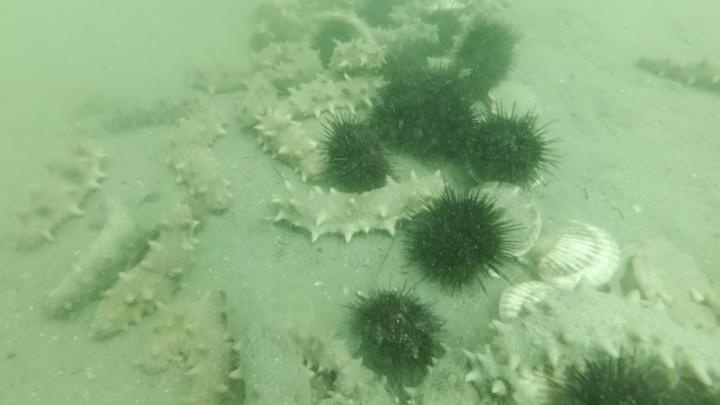echinus: (399, 185, 521, 297), (367, 65, 483, 167), (340, 281, 448, 386), (460, 102, 562, 191), (540, 343, 681, 404), (315, 112, 396, 196), (448, 16, 524, 96), (307, 14, 370, 71), (247, 34, 319, 69), (353, 1, 405, 33)
holothurian: (460, 278, 719, 378), (88, 204, 204, 344), (42, 199, 157, 323), (266, 169, 448, 247), (215, 284, 323, 405), (10, 141, 111, 254), (173, 288, 254, 405), (284, 323, 397, 403), (162, 107, 236, 216), (133, 291, 218, 377), (462, 343, 574, 405), (249, 106, 333, 185), (272, 69, 390, 125), (402, 340, 480, 403), (183, 45, 270, 99), (311, 26, 398, 80), (101, 93, 202, 136), (634, 50, 720, 96), (245, 61, 321, 102), (241, 13, 317, 52), (383, 1, 451, 32), (460, 1, 514, 23)
scallop: (522, 213, 627, 294), (620, 234, 713, 316), (464, 181, 546, 271), (495, 278, 565, 329), (485, 79, 545, 130)
